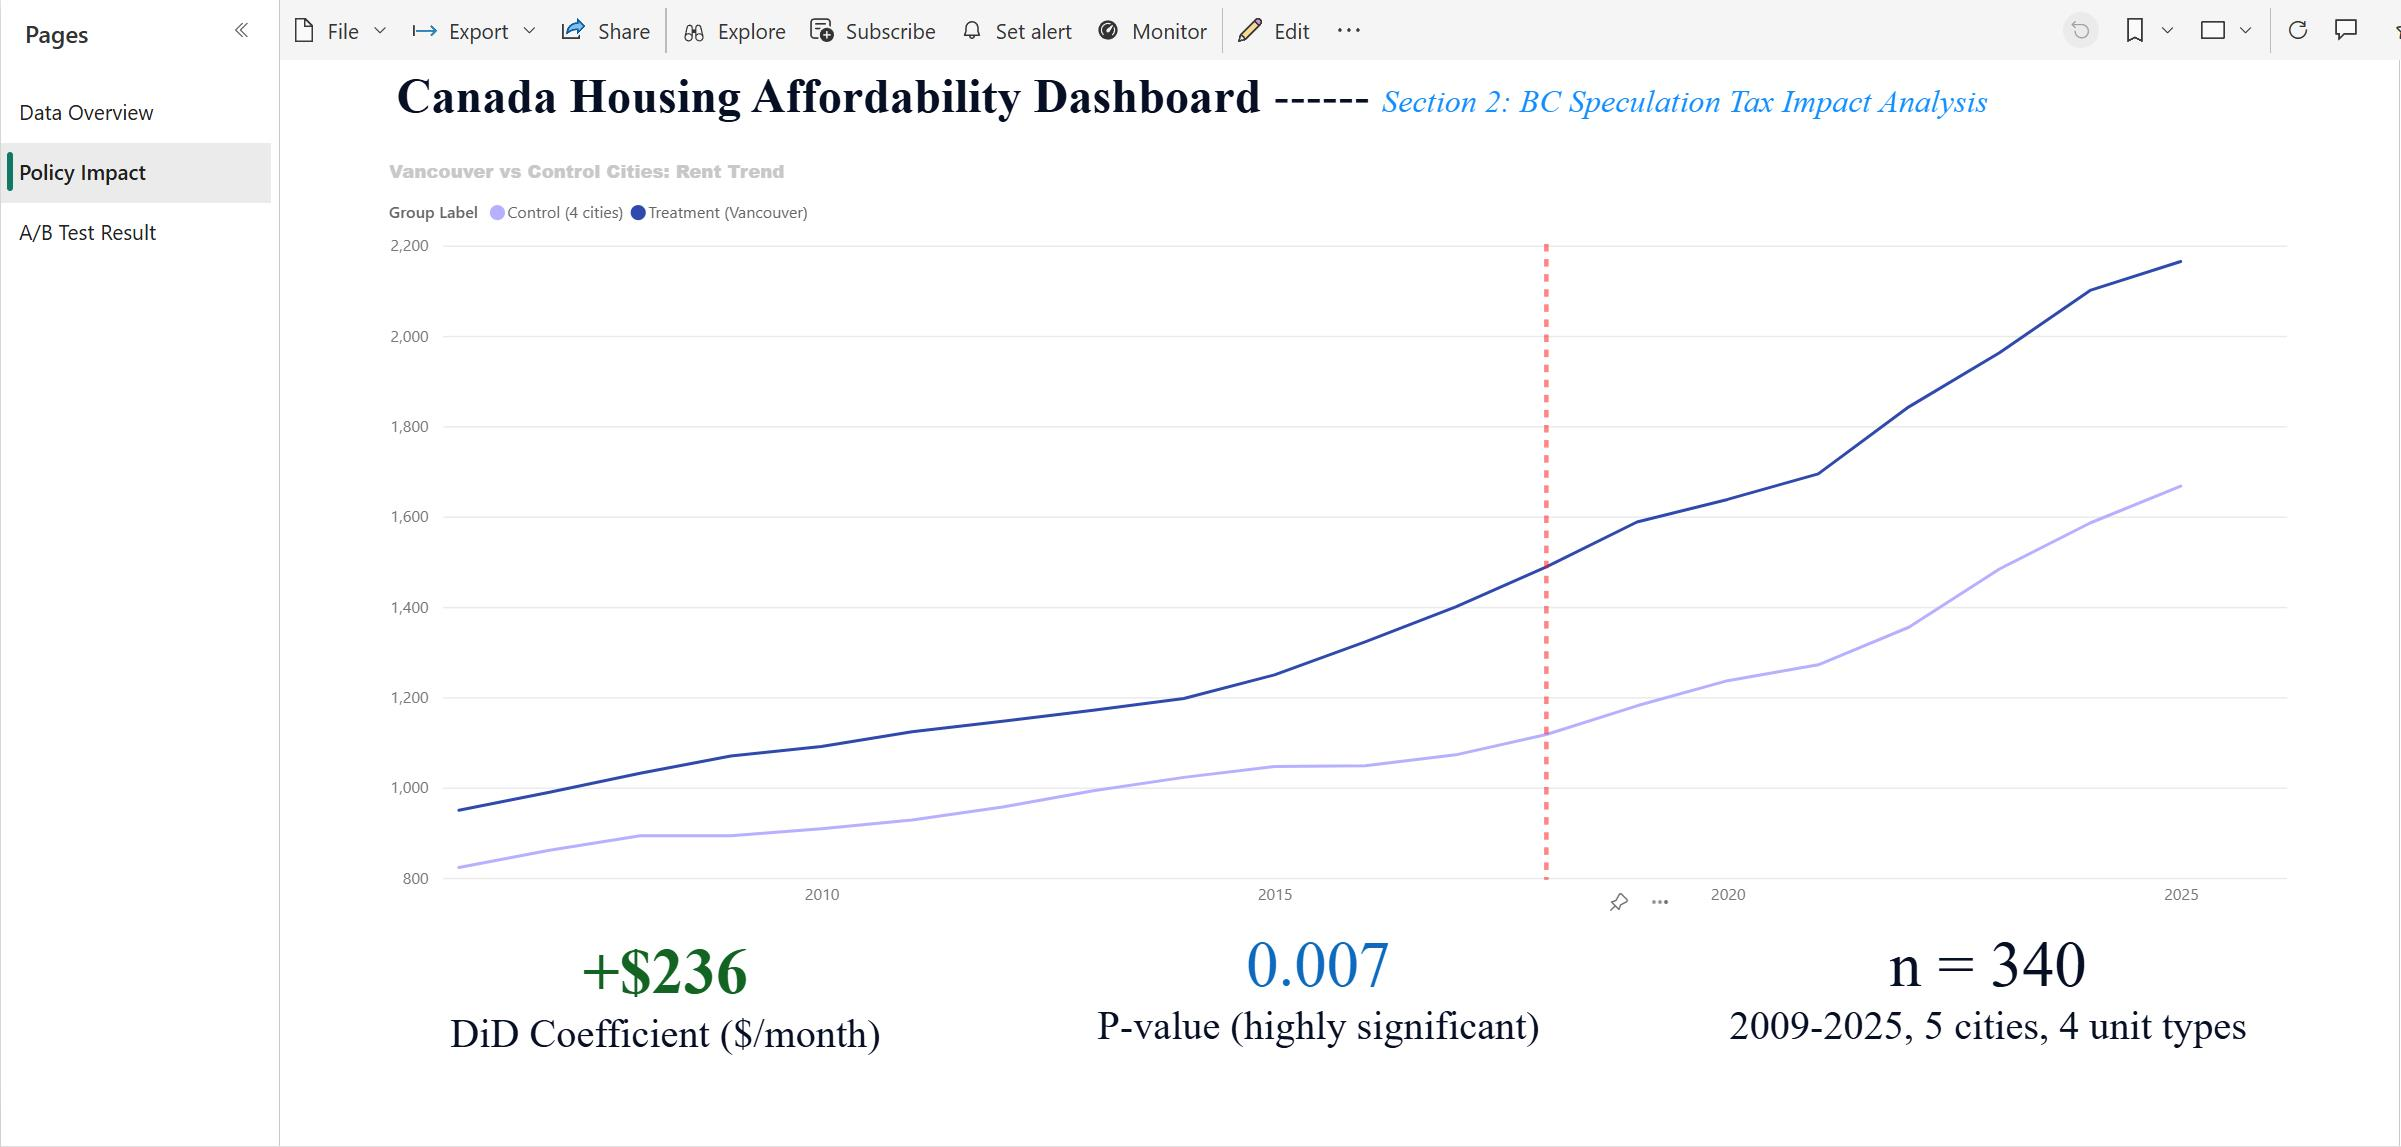

The page's visual inventory and layout, read from the dashboard file:
{"tool":"powerbi","page":{"name":"Policy Impact","canvas":[1280,720],"ordinal":1},"visuals":[{"type":"textbox","box":[10.4,0,1269.9,64.7],"z":0},{"type":"lineChart","title":"Vancouver vs Control Cities: Rent Trend","fields":{"Category":["public dim_time.year"],"Y":["Avg(public analytical_dataset.avg_rent_cad)"],"Series":["public dim_city.Group Label"]},"box":[4.8,64.8,1269.6,505.2],"z":1},{"type":"textbox","box":[0,574.8,386.4,99.6],"z":2},{"type":"textbox","box":[386.4,570,478.8,150],"z":3},{"type":"textbox","box":[865,570,410,150],"z":4}]}

Visuals, with their boxes on the page's 1280x720 design canvas (x1, y1, x2, y2). These are canvas units, not pixel positions in the 2401x1147 screenshot, which may show the page scaled, cropped or inside an application window:
textbox: pyautogui.locateOnScreen(10, 0, 1280, 65)
"Vancouver vs Control Cities: Rent Trend" lineChart: pyautogui.locateOnScreen(5, 65, 1274, 570)
textbox: pyautogui.locateOnScreen(0, 575, 386, 674)
textbox: pyautogui.locateOnScreen(386, 570, 865, 720)
textbox: pyautogui.locateOnScreen(865, 570, 1275, 720)
